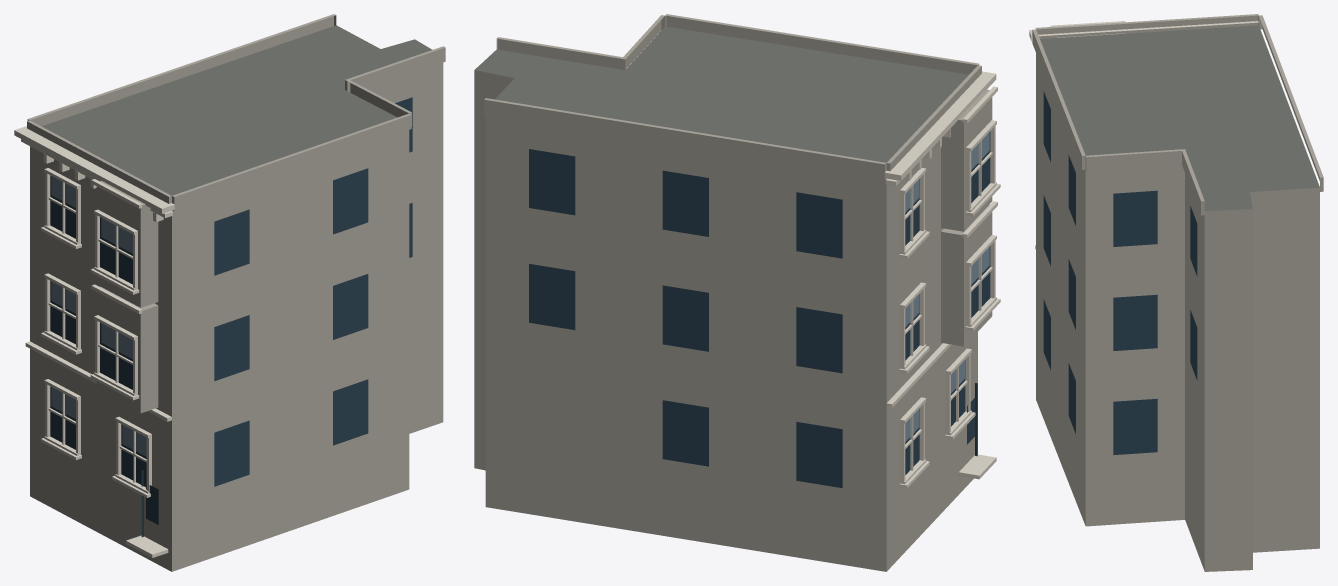
3 renders of one model, left to right at view 1: azimuth 30°, elevation 25°; view 2: azimuth 150°, elevation 25°; view 3: azimuth 270°, elevation 25°, orthographic. The views are drawn at different scales.
Parts seen in each view (by area): view 1: Footprint 0 / surface 2, Footprint 0 / surface 1, Facade bay volumes, Inset glazing, Cornices and window frames, Sky reflection panels; view 2: Footprint 0 / surface 2, Footprint 0 / surface 1, Inset glazing, Facade bay volumes, Cornices and window frames, Sky reflection panels; view 3: Footprint 0 / surface 2, Footprint 0 / surface 1, Inset glazing, Facade bay volumes, Cornices and window frames.
Part boxes in pixels (left/top/right/bottom): Footprint 0 / surface 2: left=30, top=63, right=443, bottom=571; Footprint 0 / surface 1: left=42, top=25, right=432, bottom=195; Facade bay volumes: left=27, top=14, right=445, bottom=413; Inset glazing: left=50, top=97, right=412, bottom=524; Cornices and window frames: left=14, top=126, right=174, bottom=557; Sky reflection panels: left=51, top=176, right=146, bottom=456; Footprint 0 / surface 2: left=474, top=70, right=977, bottom=571; Footprint 0 / surface 1: left=475, top=26, right=968, bottom=162; Inset glazing: left=529, top=131, right=990, bottom=488; Facade bay volumes: left=484, top=14, right=992, bottom=346; Cornices and window frames: left=884, top=71, right=1000, bottom=488; Sky reflection panels: left=905, top=132, right=989, bottom=441; Footprint 0 / surface 2: left=1036, top=53, right=1319, bottom=571; Footprint 0 / surface 1: left=1040, top=25, right=1319, bottom=210; Inset glazing: left=1043, top=91, right=1197, bottom=455; Facade bay volumes: left=1032, top=14, right=1323, bottom=215; Cornices and window frames: left=1029, top=21, right=1258, bottom=249.
Bounding box in the file's own units: 14.7 × 13.17 × 9.49.
